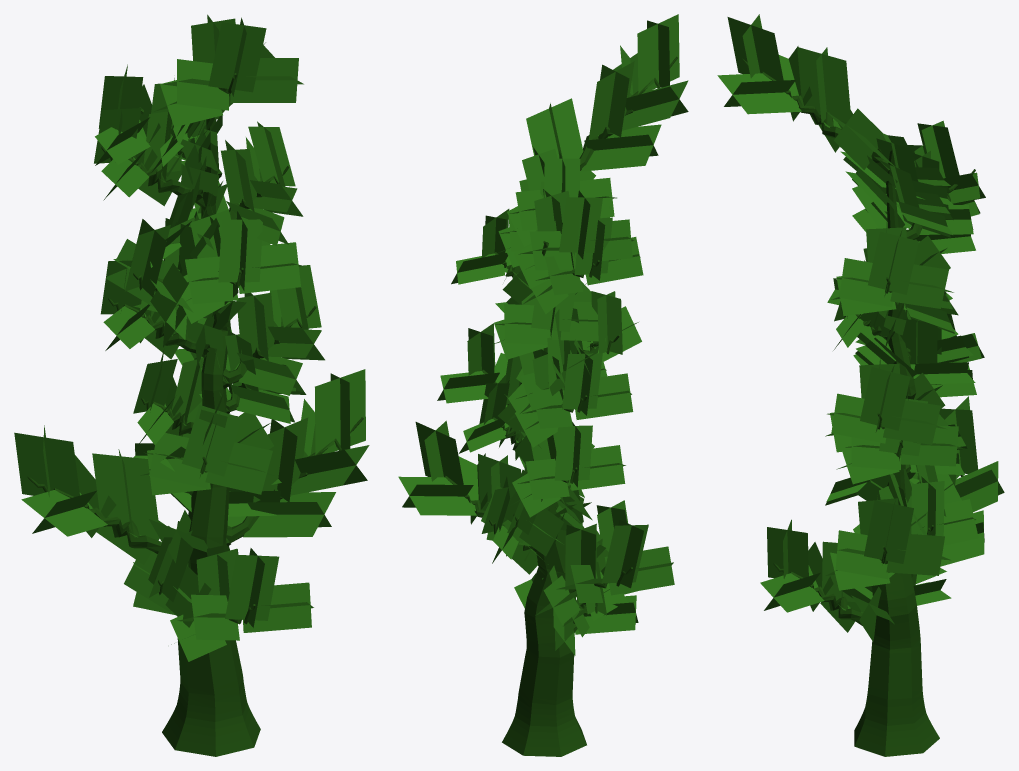
The model's file is TreeC11.fbx.
The picture shows the model from 3 angles, left to right: view 1: azimuth 30°, elevation 25°; view 2: azimuth 150°, elevation 25°; view 3: azimuth 270°, elevation 25°; orthographic projection. The views are drawn at different scales.
Parts seen in each view (by area): view 1: TreeCC2; view 2: TreeCC2; view 3: TreeCC2.
Part boxes in pixels (x1,y1,x2,y2): TreeCC2: (14, 14, 369, 756); TreeCC2: (398, 14, 688, 756); TreeCC2: (717, 14, 1004, 756).
Bounding box in the file's own units: 2.44 × 5.7 × 2.13.
